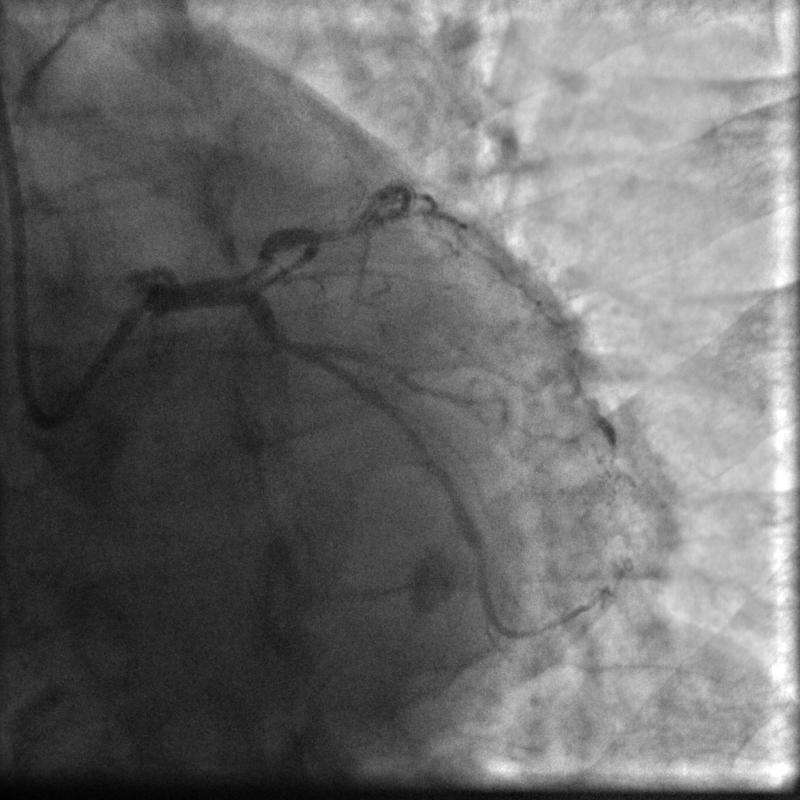Stenosis: (236, 242, 279, 288)
